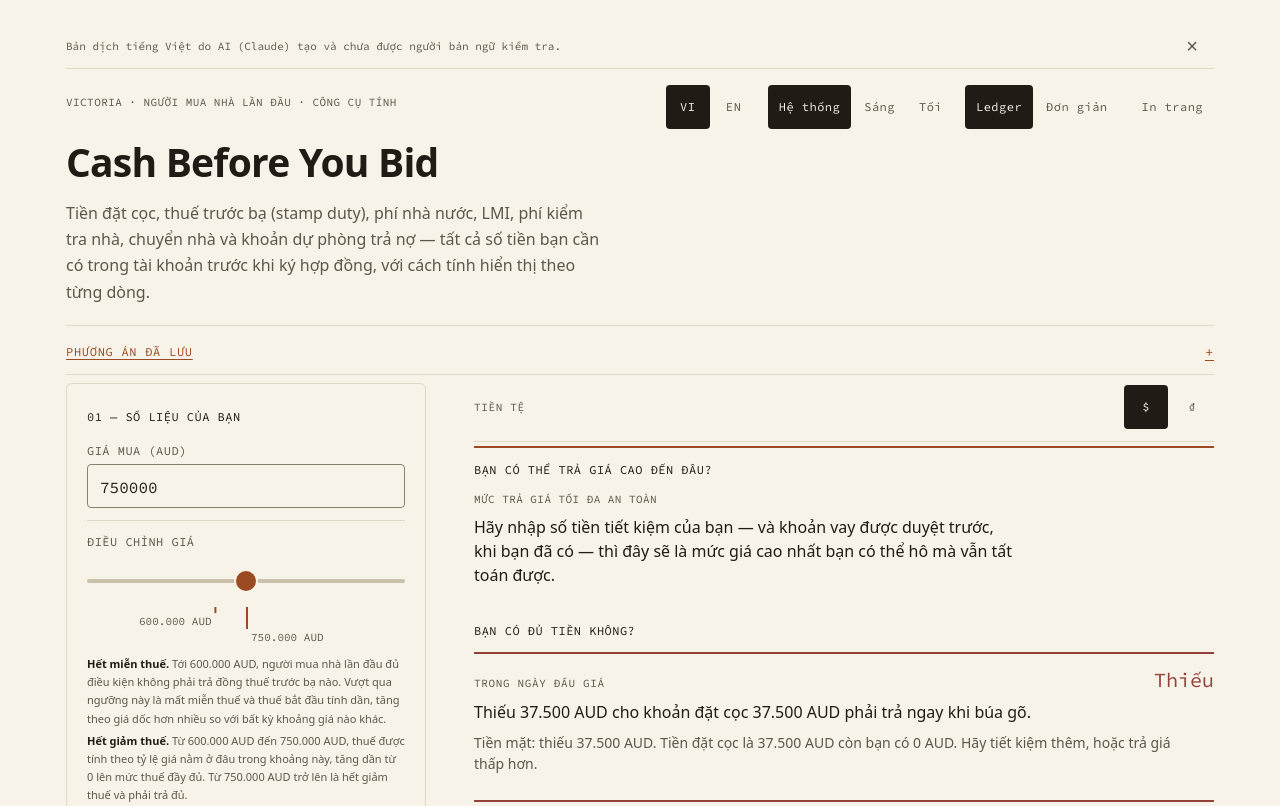
Test: the exchange rate › applies a typed override, marks it, and carries it in the URL
Check: the field labelled "Giá mua (AUD)" is shown, box [87, 464, 405, 508]
Click the button named "Đồng Việt Nam" at (1192, 407), box [1170, 385, 1214, 429]
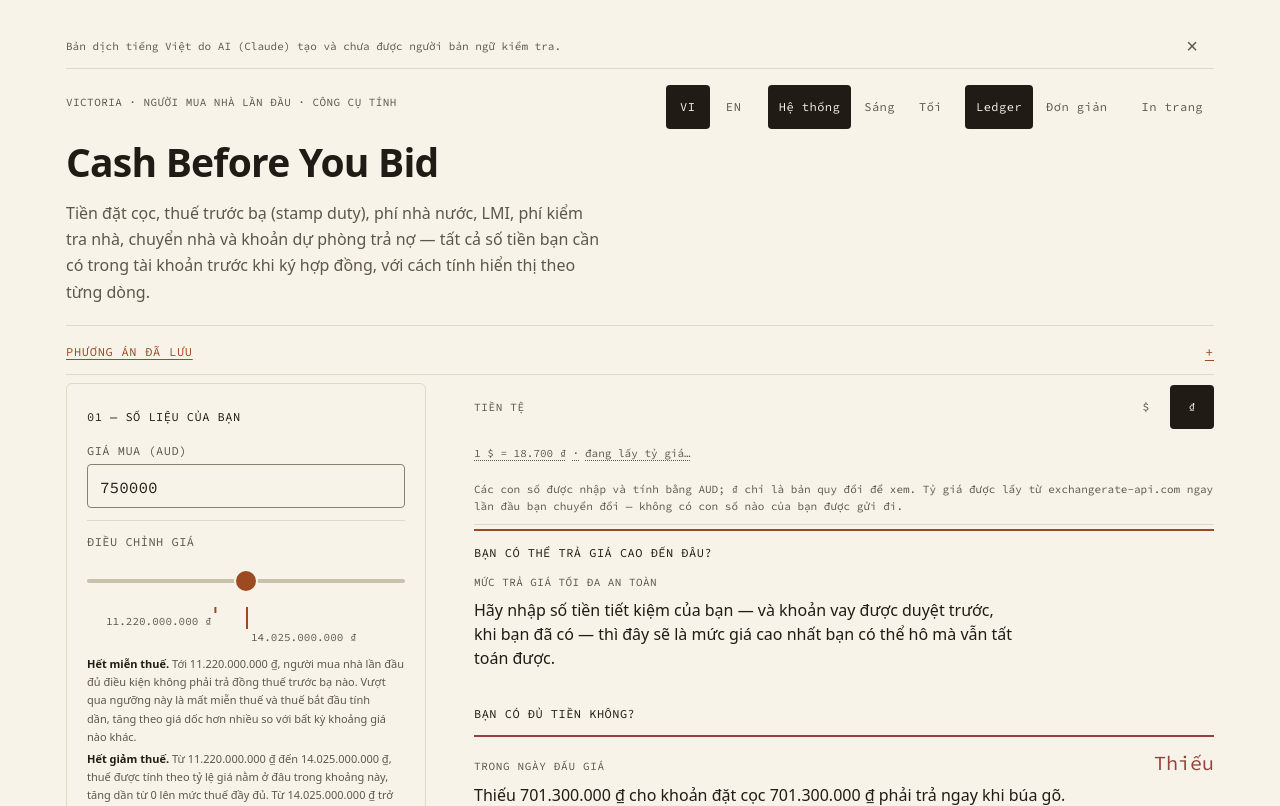
Check: the button with class "ratebtn" is shown
Click the button with class "ratebtn" at (582, 453), box [474, 431, 691, 475]
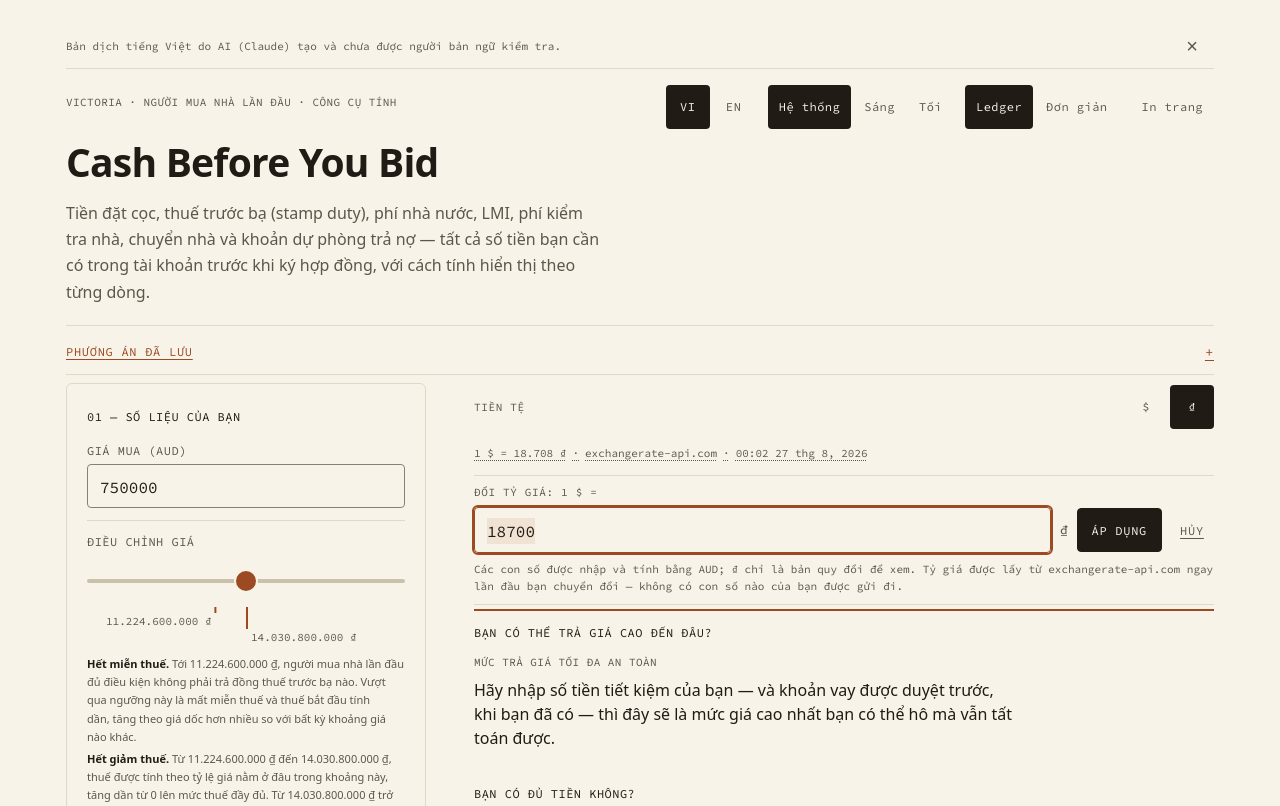
Replace the text in the field labelled "Đổi tỷ giá: 1 $ =" with "20000" at (762, 530), box [474, 507, 1051, 553]
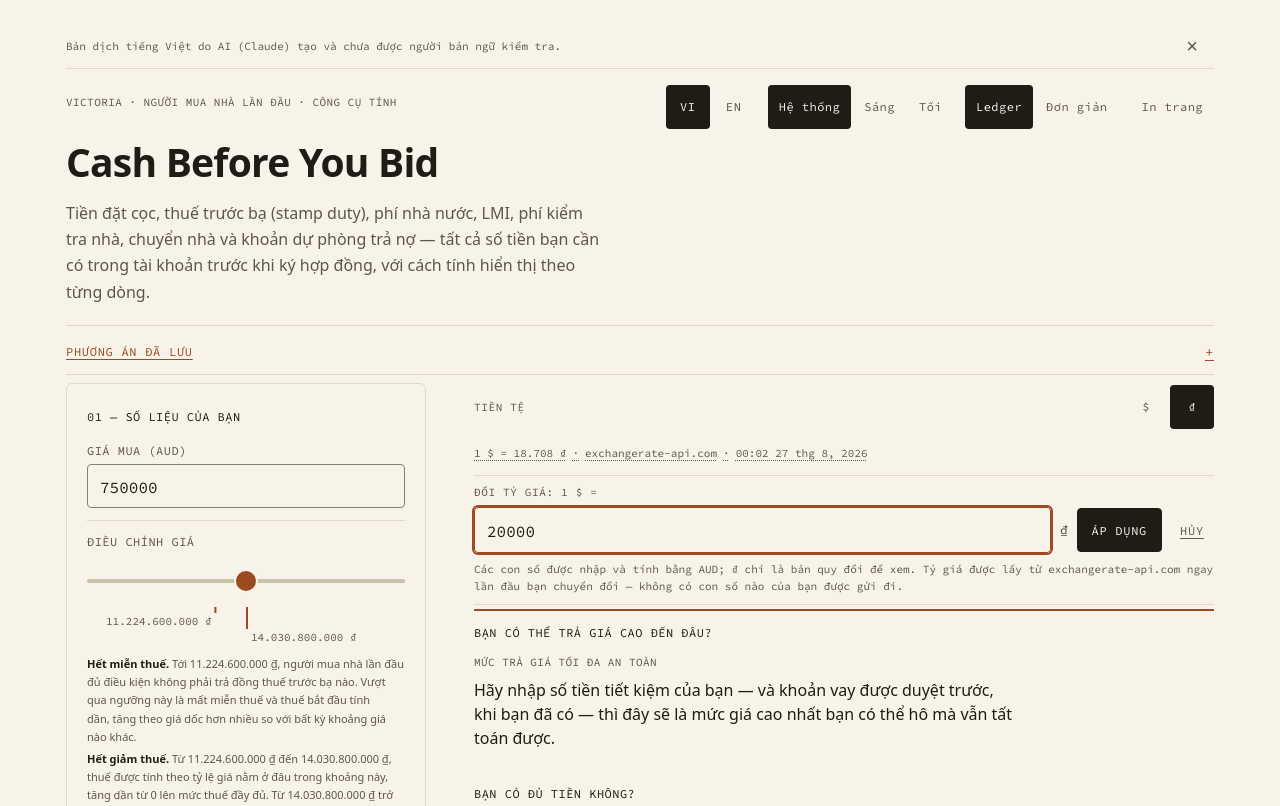
Submit the form with class "rateedit", box [474, 475, 1214, 555]
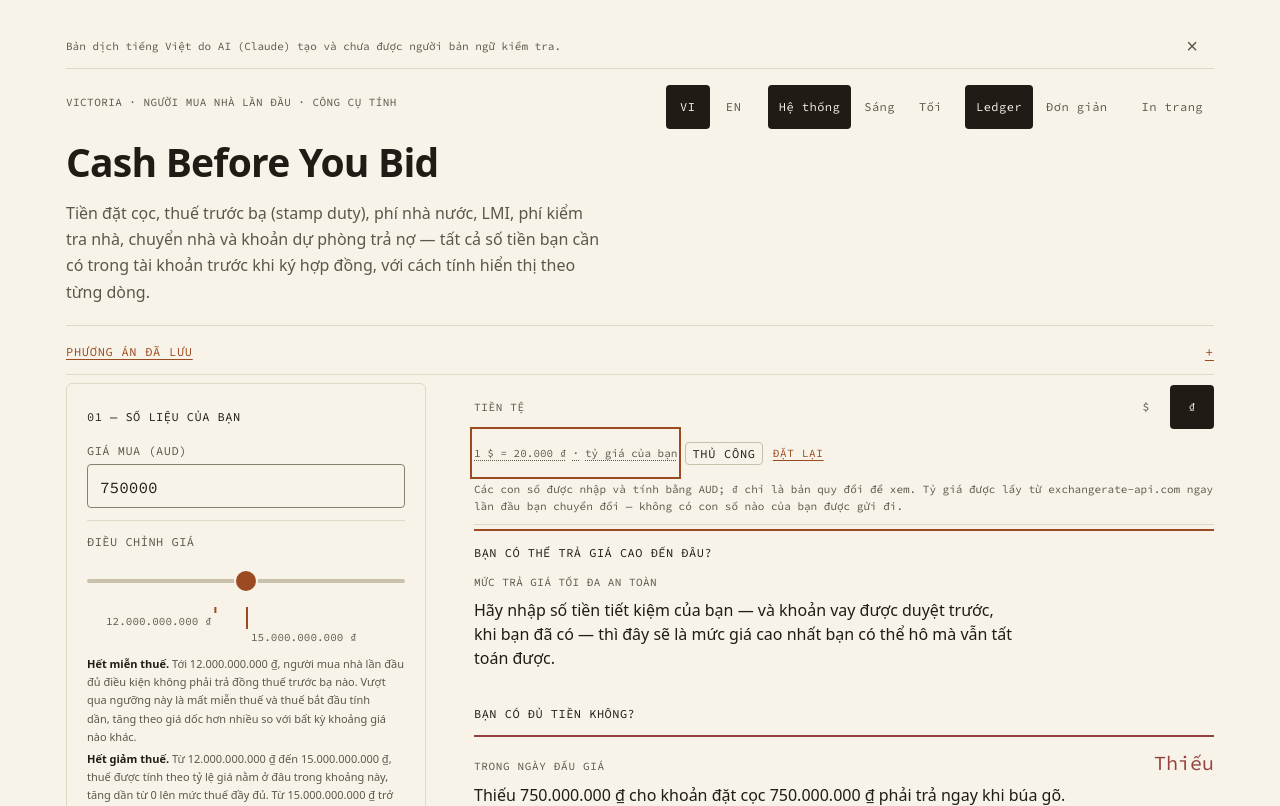
Check: the text with class "tag" reads "THỦ CÔNG", box [692, 446, 756, 461]
